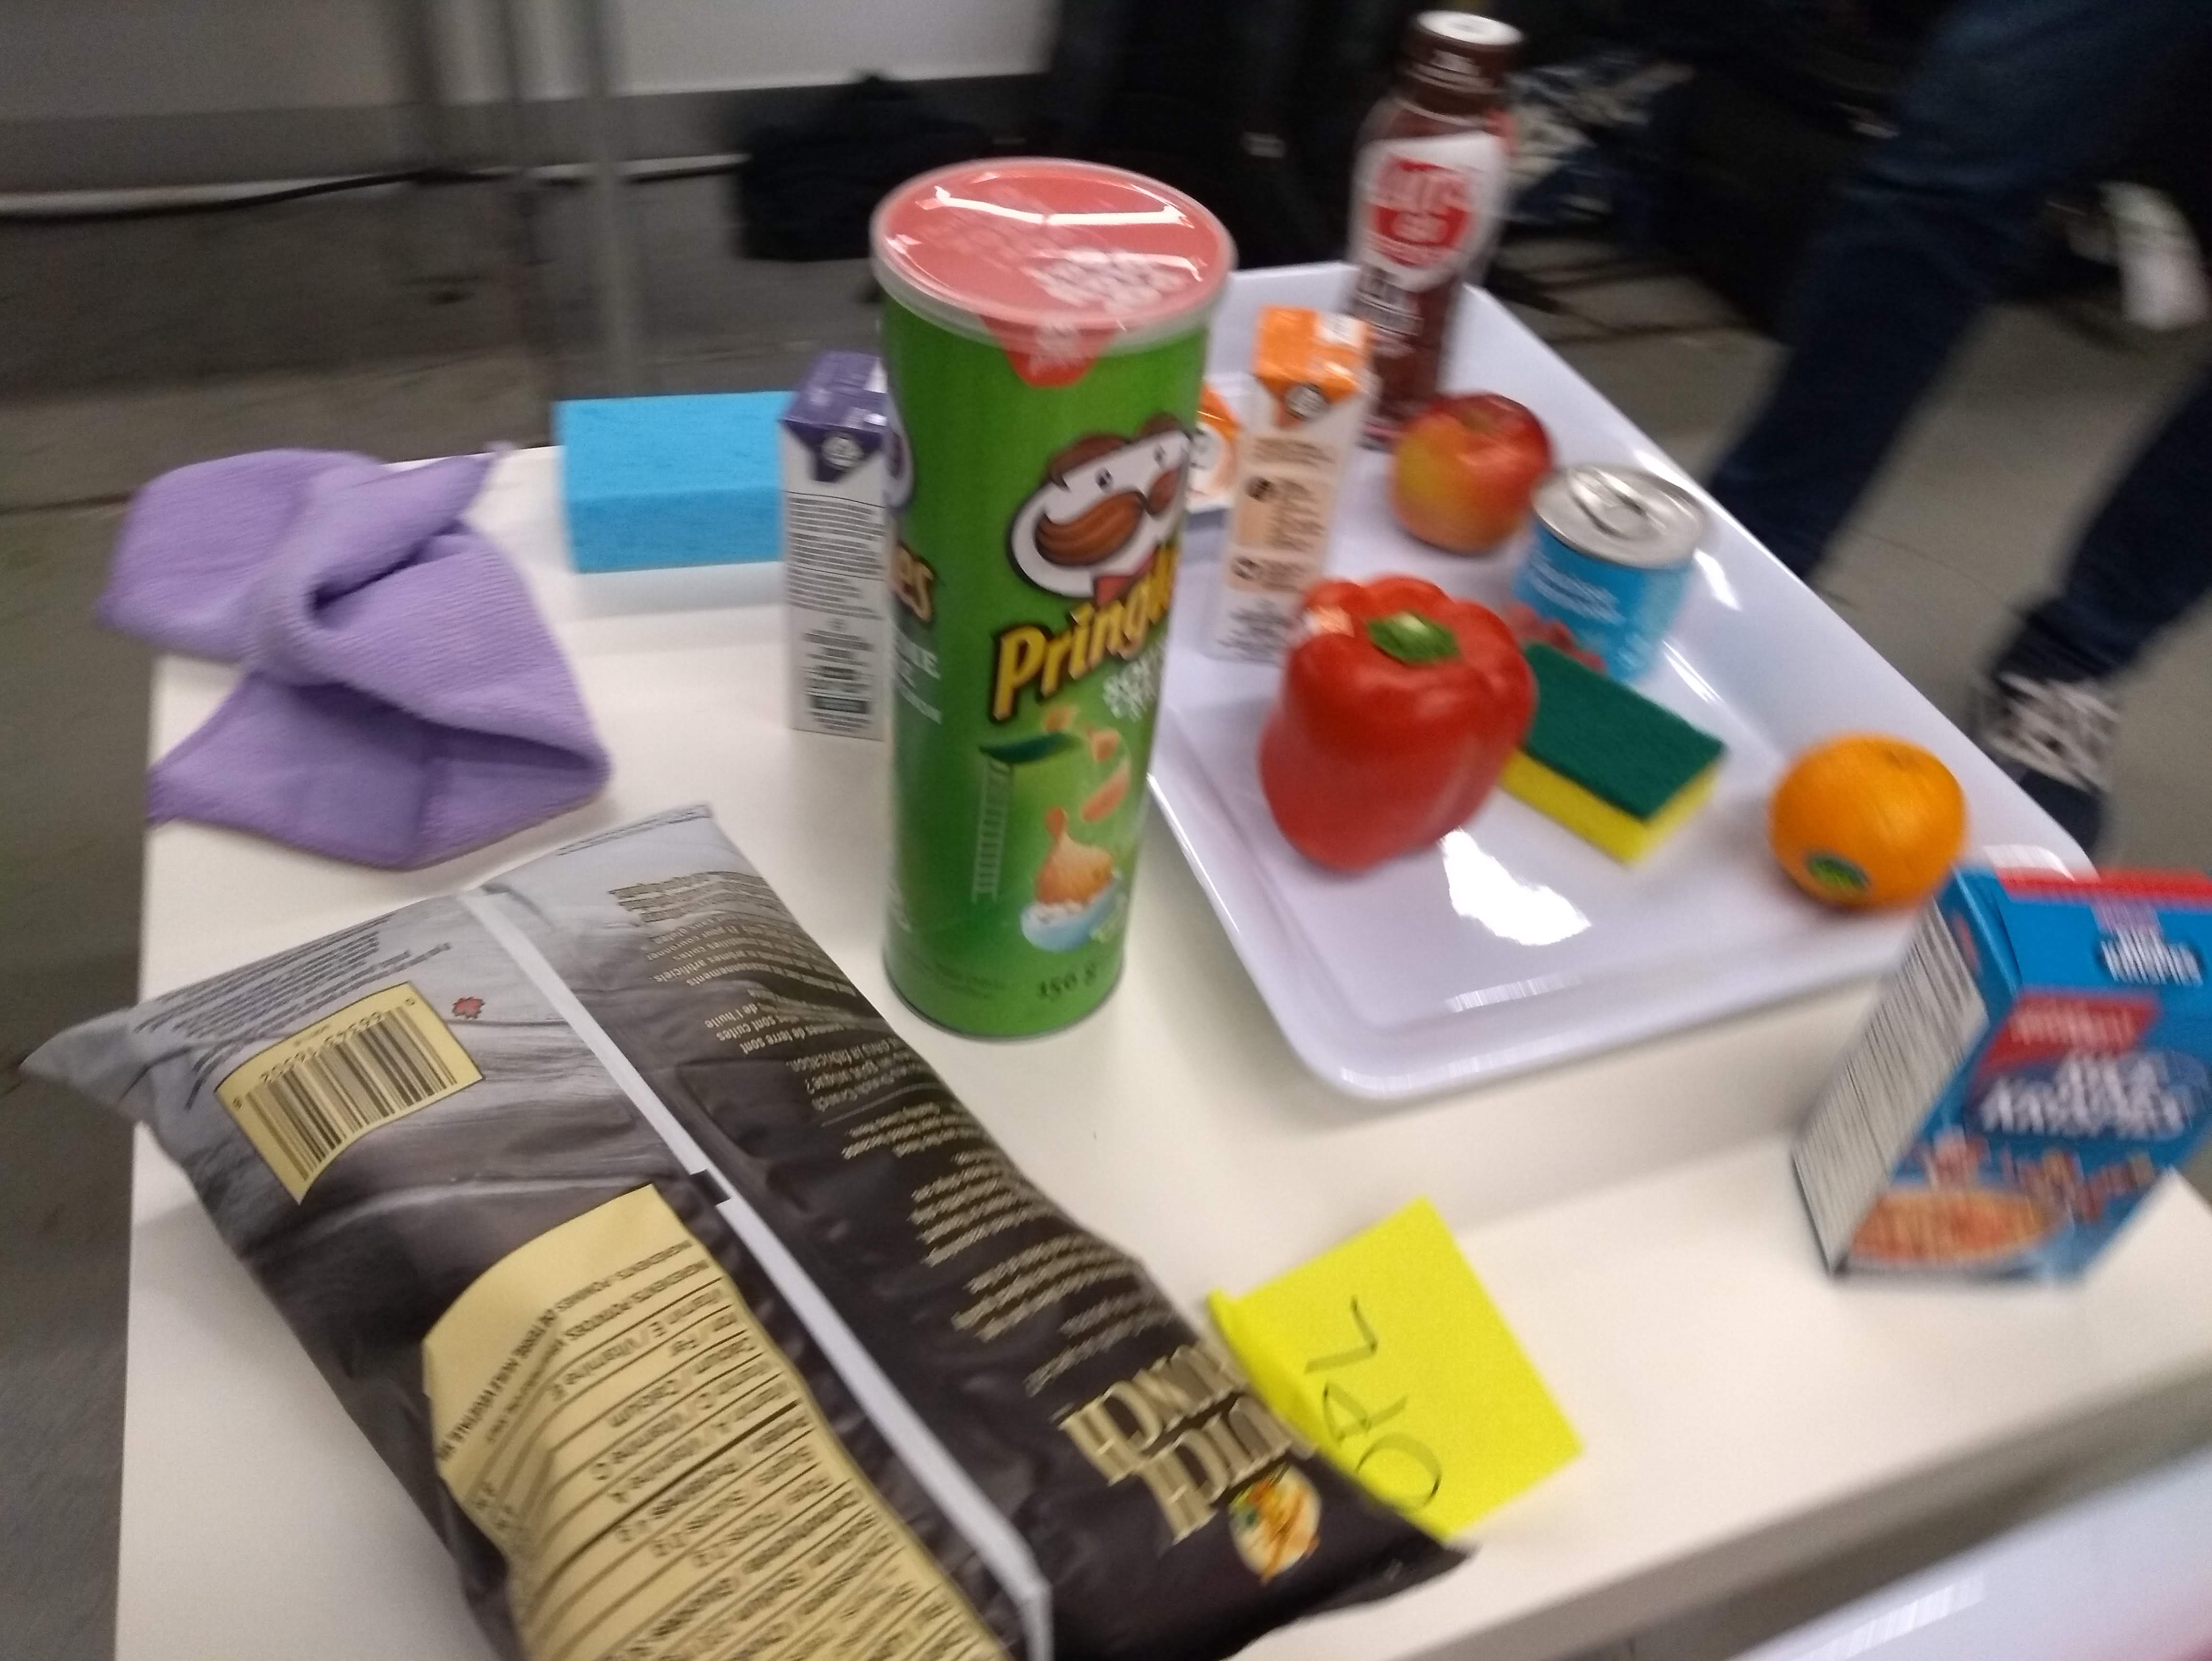apple: (1392, 396, 1554, 557)
cereal: (1802, 844, 2212, 1296)
chocolate_drink: (1345, 9, 1519, 438)
cloth_opl: (115, 441, 611, 874)
grape_juice: (783, 347, 898, 755)
orange: (1771, 733, 1952, 909)
orange_juice: (1207, 314, 1369, 672)
paprika: (1251, 574, 1537, 876)
potato_chips: (96, 830, 1417, 1661)
pringles: (865, 141, 1225, 1036)
sausages: (1525, 461, 1706, 694)
scrubby: (1509, 642, 1732, 869)
sponge_opl: (546, 387, 789, 564)
